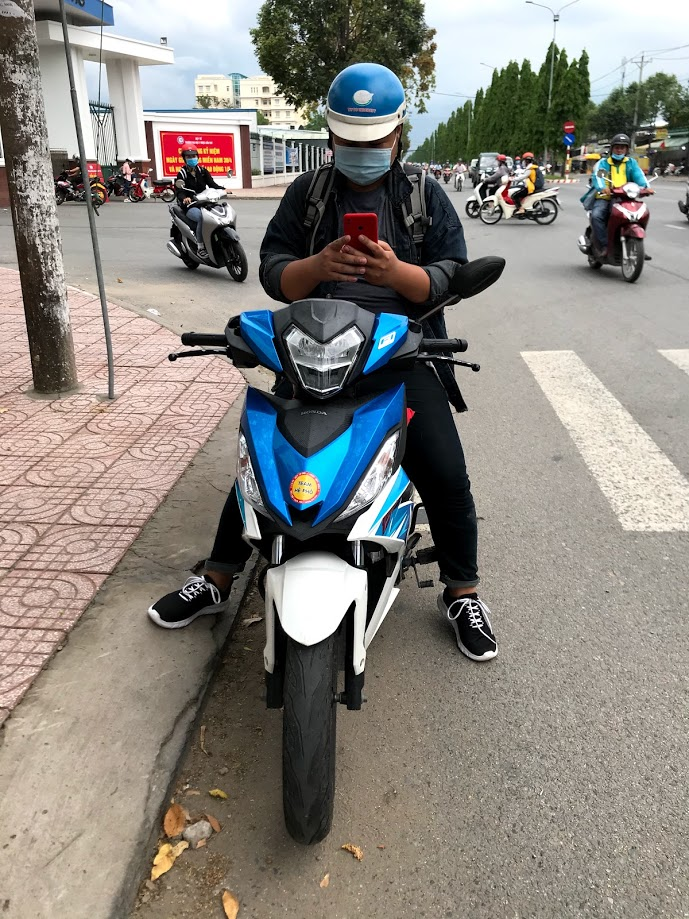dieu khien xe may: (236, 60, 434, 546), (175, 144, 237, 248), (600, 133, 650, 239)
su dung dien thoai: (309, 62, 416, 291)
